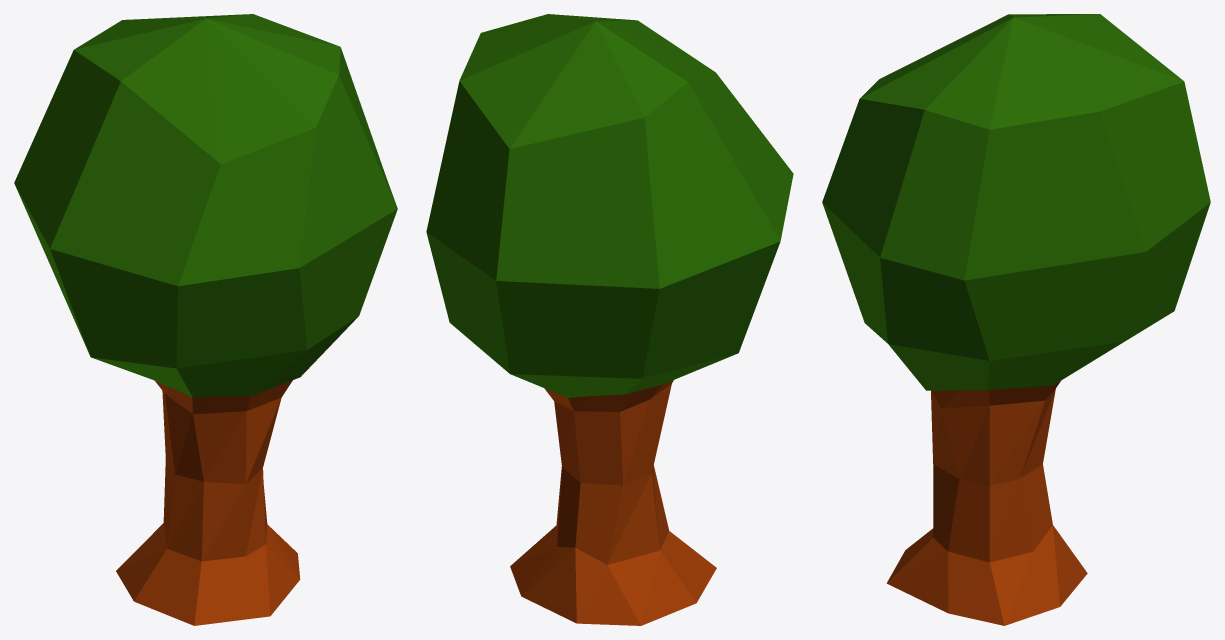
File: tree 1.FBX
The picture shows the model from 3 angles, left to right: view 1: azimuth 30°, elevation 25°; view 2: azimuth 150°, elevation 25°; view 3: azimuth 270°, elevation 25°; orthographic projection. The views are drawn at different scales.
Parts seen in each view (by area): view 1: Sphere001, Cylinder001; view 2: Sphere001, Cylinder001; view 3: Sphere001, Cylinder001.
Boxes of the visible parts, x1,y1,x2,y2 form: Sphere001: (14,14,397,397); Cylinder001: (116,380,300,625); Sphere001: (426,14,793,397); Cylinder001: (510,380,716,625); Sphere001: (822,14,1210,390); Cylinder001: (886,381,1087,625).
Bounding box in the file's own units: 252 × 256 × 410.
